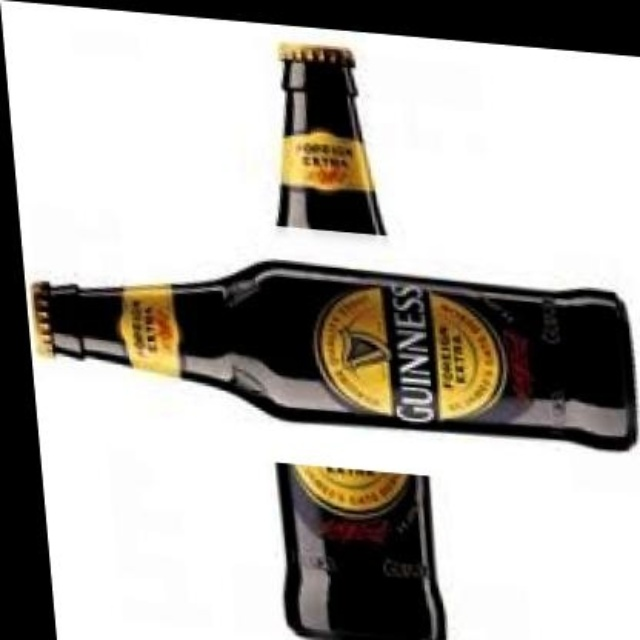trash: (32, 262, 634, 448), (277, 463, 443, 638), (278, 46, 383, 232)
